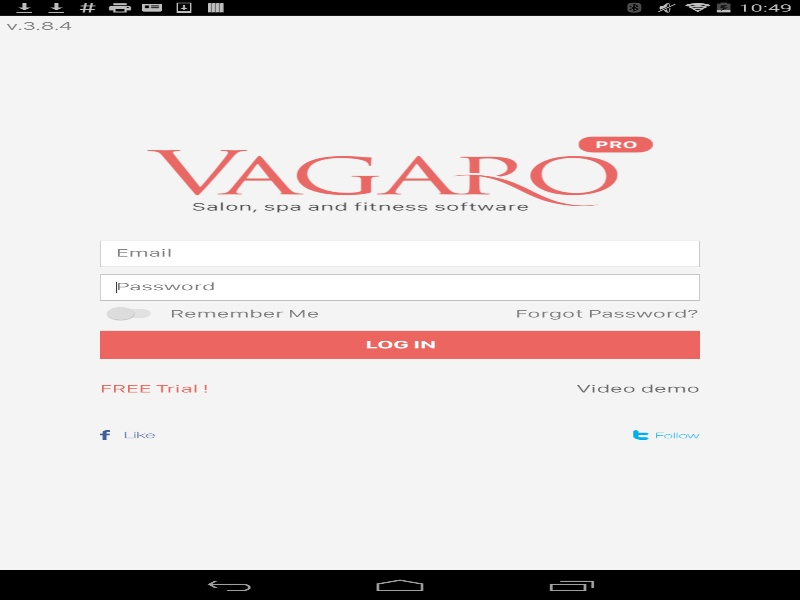Button: (392, 381, 700, 411)
Input: (100, 240, 700, 266), (100, 274, 700, 300)
